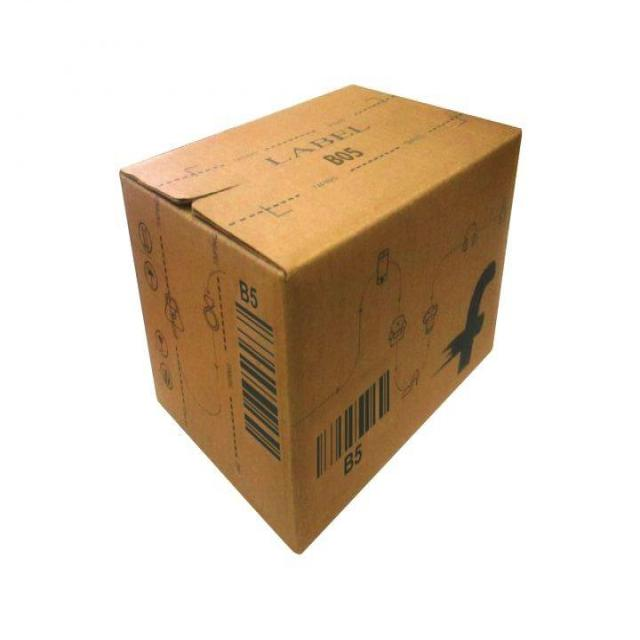box: (77, 68, 530, 584)
